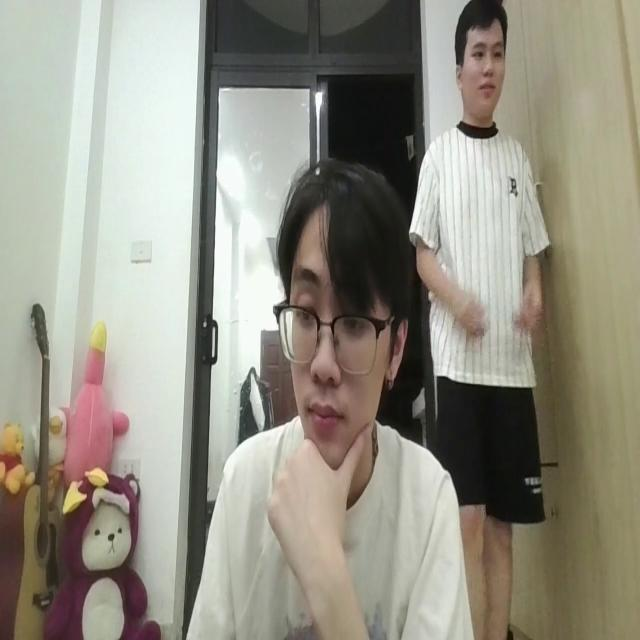extra_person: (416, 0, 544, 551)
student: (167, 166, 464, 640)
